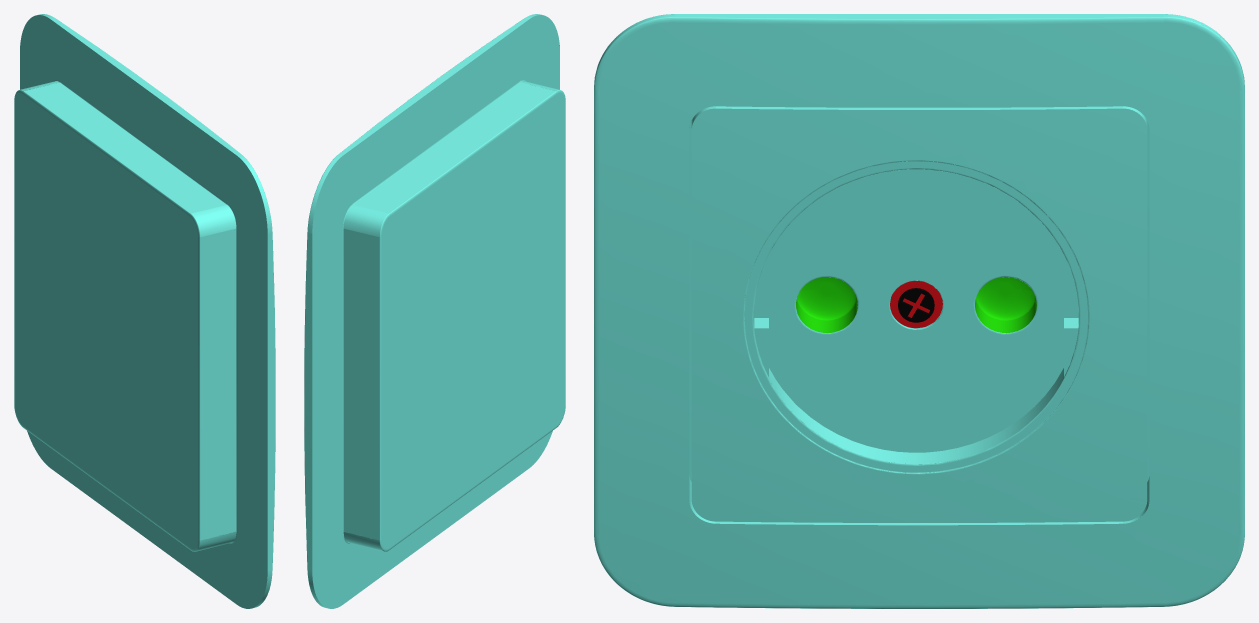
Rendered from Socket.fbx.
3 views of the same model, side by side, from view 1: azimuth 30°, elevation 25°; view 2: azimuth 150°, elevation 25°; view 3: azimuth 270°, elevation 25° (orthographic). The views are drawn at different scales.
Parts seen in each view (by area): view 1: Object_3; view 2: Object_3; view 3: Object_3, Cylinder.087.
Boxes of the visible parts, <box> form: Object_3: <box>14,14,275,608</box>; Object_3: <box>304,14,565,608</box>; Object_3: <box>594,14,1244,608</box>; Cylinder.087: <box>898,288,934,322</box>.
Bounding box in the file's own units: 3.24 × 27.67 × 27.67.
